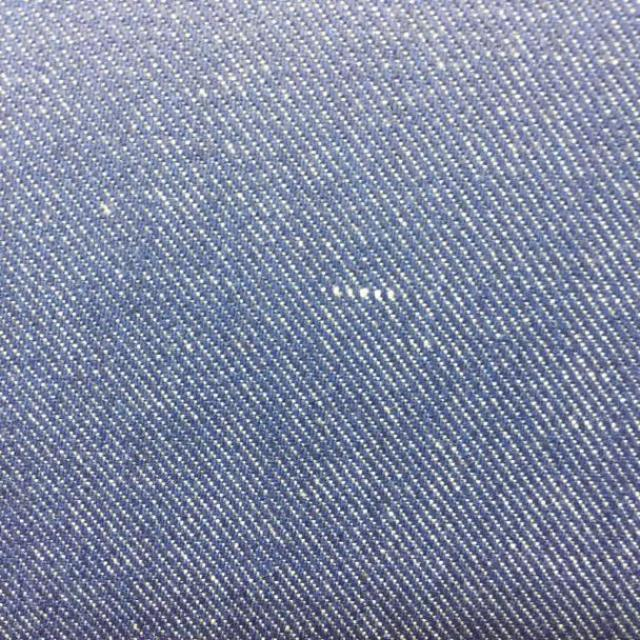Knot: (332, 288, 396, 301)
